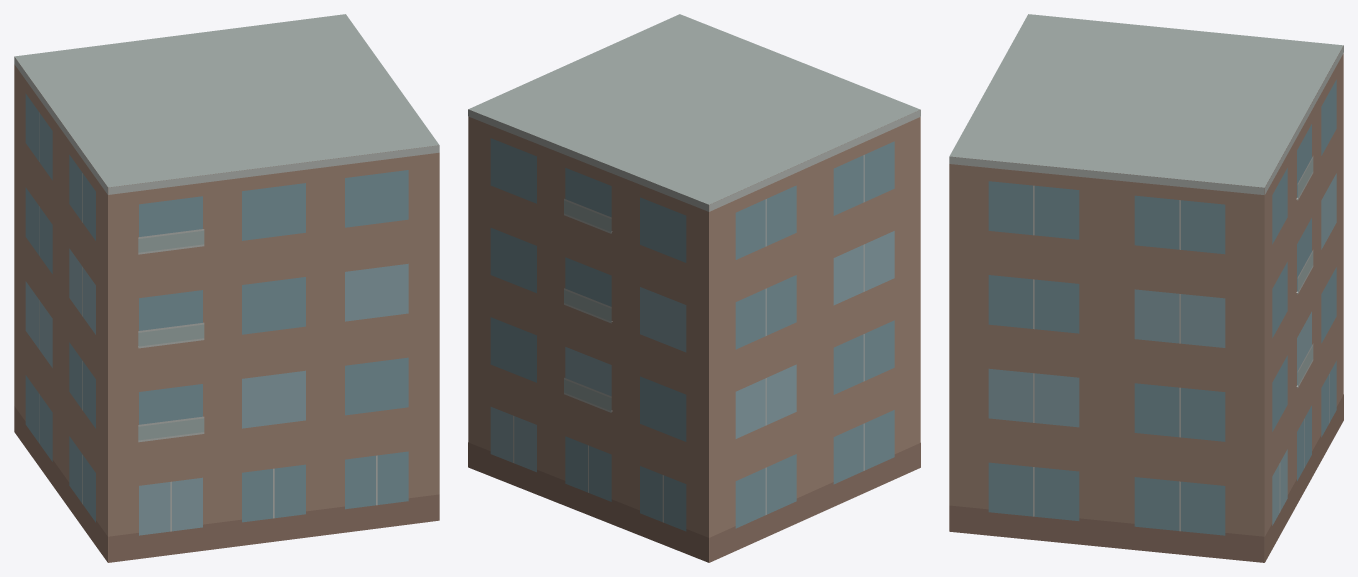
File: residential-2f49f69e-3109-47b8-9e56-8143dd77d9d8.glb
3 views of the same model, side by side, from view 1: azimuth 30°, elevation 25°; view 2: azimuth 150°, elevation 25°; view 3: azimuth 270°, elevation 25° (orthographic). The views are drawn at different scales.
Visible parts, largest first — view 1: residential-2f49f69e-3109-47b8-9e56-8143dd77d9d8.tmp; view 2: residential-2f49f69e-3109-47b8-9e56-8143dd77d9d8.tmp; view 3: residential-2f49f69e-3109-47b8-9e56-8143dd77d9d8.tmp.
Boxes of the visible parts, <box> form: residential-2f49f69e-3109-47b8-9e56-8143dd77d9d8.tmp: <box>14,14,439,562</box>; residential-2f49f69e-3109-47b8-9e56-8143dd77d9d8.tmp: <box>468,14,920,562</box>; residential-2f49f69e-3109-47b8-9e56-8143dd77d9d8.tmp: <box>949,14,1343,562</box>.
Size of the model in its own units: 12.12 by 12.2 by 11.63.
